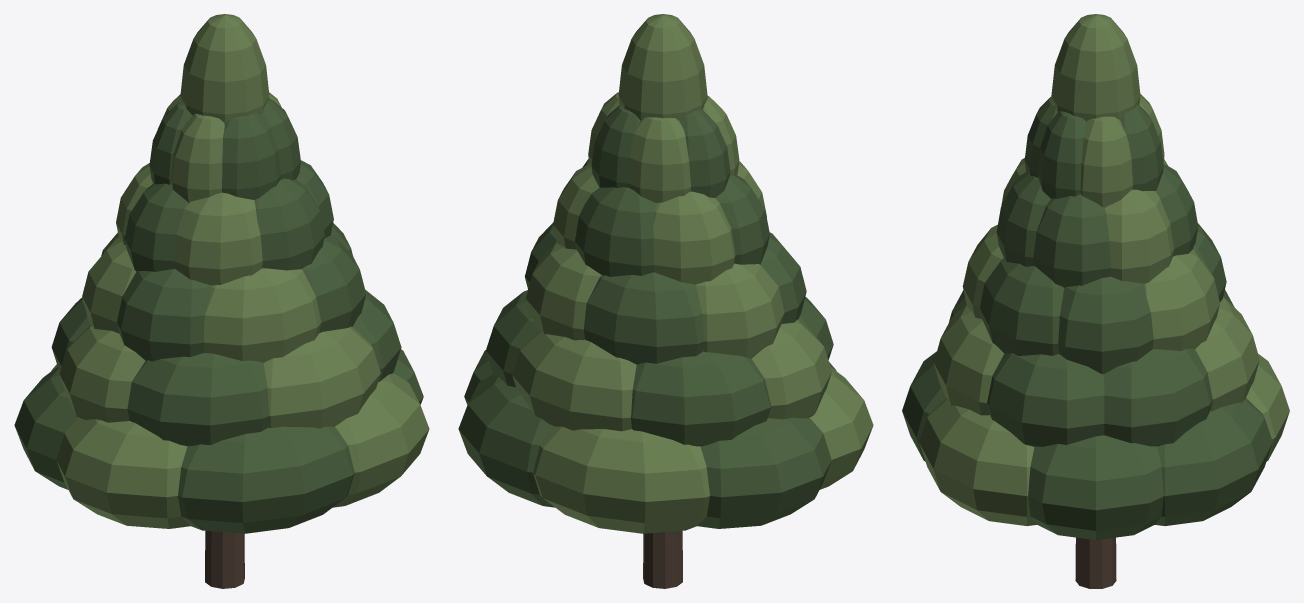
The model's file is conical-tree.glb.
The picture shows the model from 3 angles, left to right: view 1: azimuth 30°, elevation 25°; view 2: azimuth 150°, elevation 25°; view 3: azimuth 270°, elevation 25°; orthographic projection.
Visible parts, largest first — view 1: conical-tree; view 2: conical-tree; view 3: conical-tree.
Boxes of the visible parts, x1=… form: conical-tree: x1=14, y1=14, x2=429, y2=588; conical-tree: x1=458, y1=14, x2=873, y2=588; conical-tree: x1=902, y1=14, x2=1289, y2=588.
Bounding box in the file's own units: 4.74 × 7 × 4.35.
